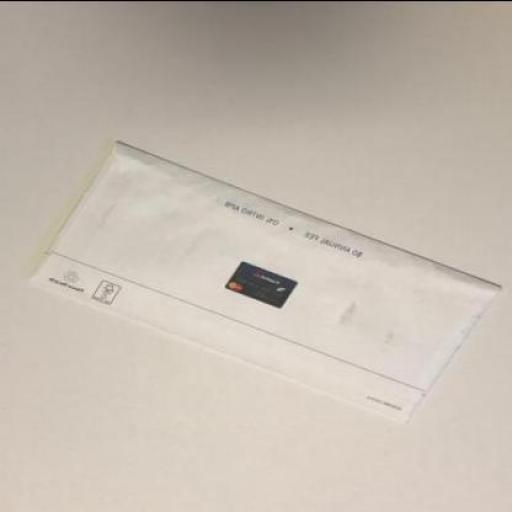paper: (35, 140, 502, 421)
